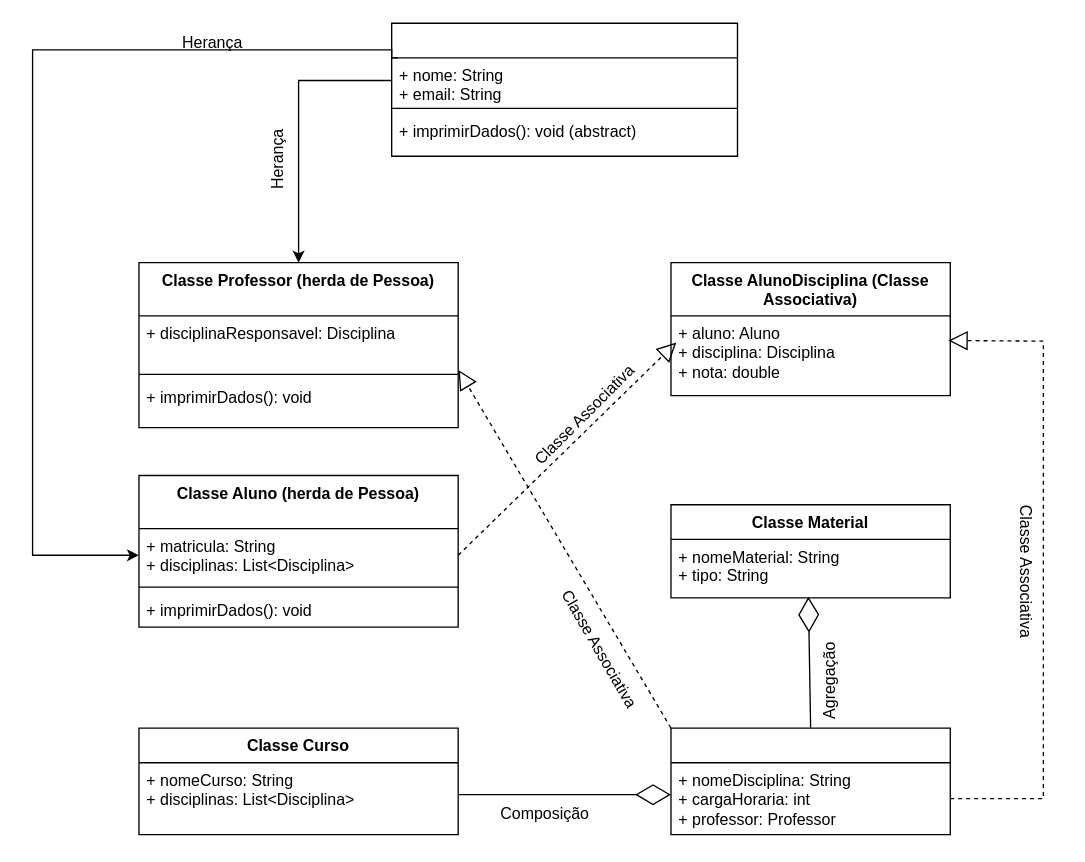
The diagram is 1085 pixels wide and 862 high, and some of its shapes have lost their labels. Here are the shapes that lost their labels. From the top down, the box of each, then its label:
(390, 22, 737, 156): Classe Pessoa (abstrata)
(670, 727, 950, 835): Classe Disciplina
